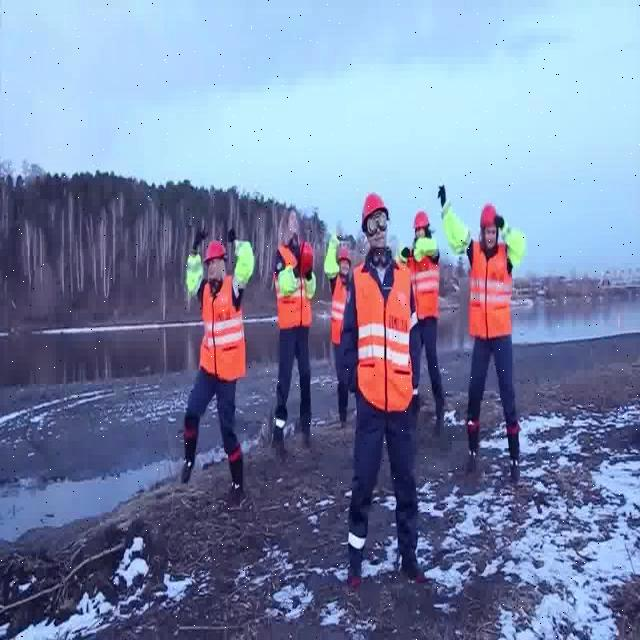Hard_hat: (359, 192, 392, 224), (473, 202, 501, 229), (412, 209, 432, 229)
Vest: (349, 260, 418, 412), (193, 251, 249, 380), (467, 240, 515, 340), (273, 267, 305, 329)
